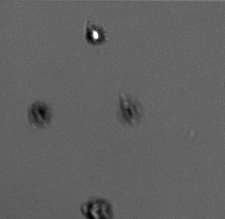Dead Cell: (85, 199, 112, 217), (31, 102, 52, 124), (121, 100, 138, 123)
Living Cell: (85, 24, 105, 44)
